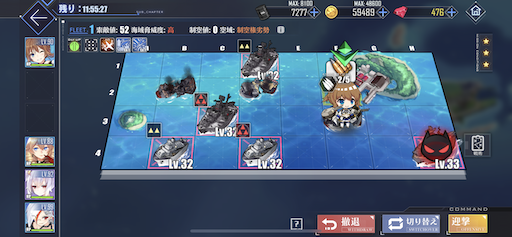boss: (409, 121, 460, 166)
lv2: (146, 122, 193, 168), (237, 38, 277, 75)
lv3: (236, 122, 282, 169), (194, 91, 238, 132)
